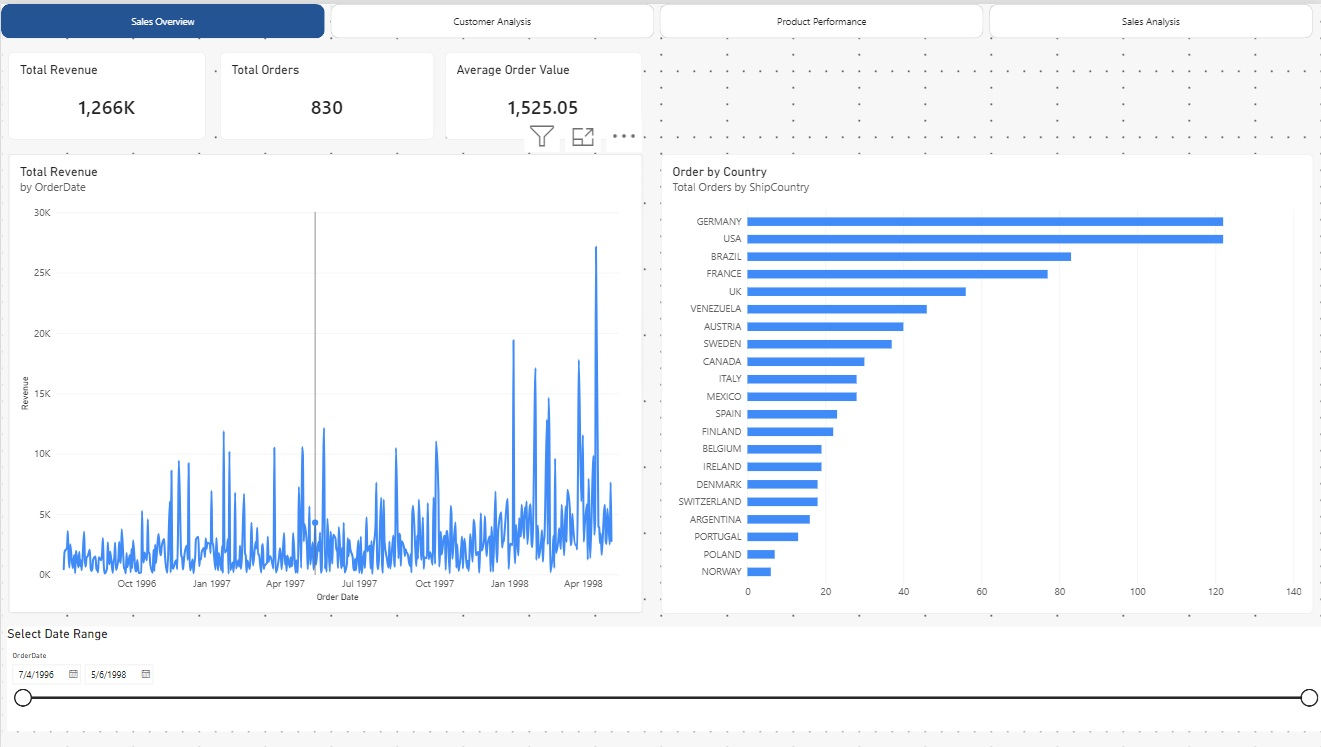

Layout of this report page (visuals, bound fields, positions):
{"tool":"powerbi","page":{"name":"Sales Overview","canvas":[1920,1080],"ordinal":0},"visuals":[{"type":"card","title":"Total Revenue","fields":{"Values":["OrderDetails.Total Revenue"]},"box":[11,69.2,286.4,127.5],"z":0},{"type":"card","title":"Total Orders","fields":{"Values":["OrderDetails.Total Orders"]},"box":[319.5,69.2,311.6,127.5],"z":1},{"type":"card","title":"Average Order Value","fields":{"Values":["Orders.Average Order Value"]},"box":[646.8,69.2,286.4,127.5],"z":2},{"type":"lineChart","fields":{"Category":["Orders.OrderDate"],"Y":["OrderDetails.Total Revenue"]},"box":[10.5,218.2,923.3,668.5],"z":3},{"type":"clusteredBarChart","title":"Order by Country","fields":{"Category":["Orders.ShipCountry"],"Y":["Orders.Total Orders"]},"box":[960,218.8,949,668.9],"z":4},{"type":"slicer","title":"Select Date Range","fields":{"Values":["Orders.OrderDate"]},"box":[9.4,904.9,1910.6,151.1],"z":5},{"type":"pageNavigator","box":[0,0,1909,50.4],"z":6}]}

Visuals, with their boxes in screenshot pixels (x1, y1, x2, y2), scaled from the page's 1920x1080 canvas onto the 1321x747 screenshot:
"Total Revenue" card: l=8, t=48, r=205, b=136
"Total Orders" card: l=220, t=48, r=434, b=136
"Average Order Value" card: l=445, t=48, r=642, b=136
lineChart - Orders.OrderDate x OrderDetails.Total Revenue: l=7, t=151, r=642, b=613
"Order by Country" clusteredBarChart: l=660, t=151, r=1313, b=614
"Select Date Range" slicer: l=6, t=626, r=1320, b=730
pageNavigator: l=0, t=0, r=1313, b=35
